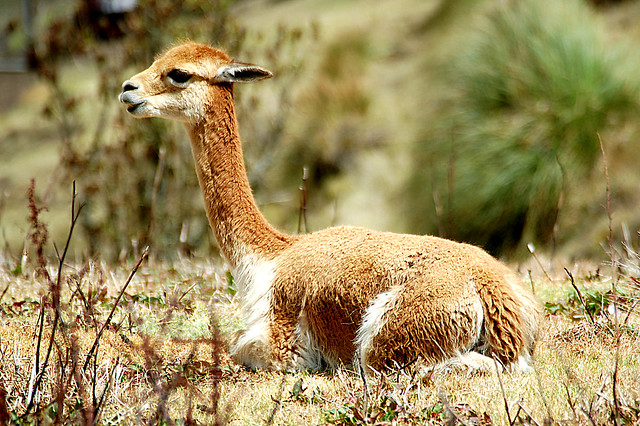eye: (162, 66, 200, 89)
mouth: (107, 85, 151, 126)
